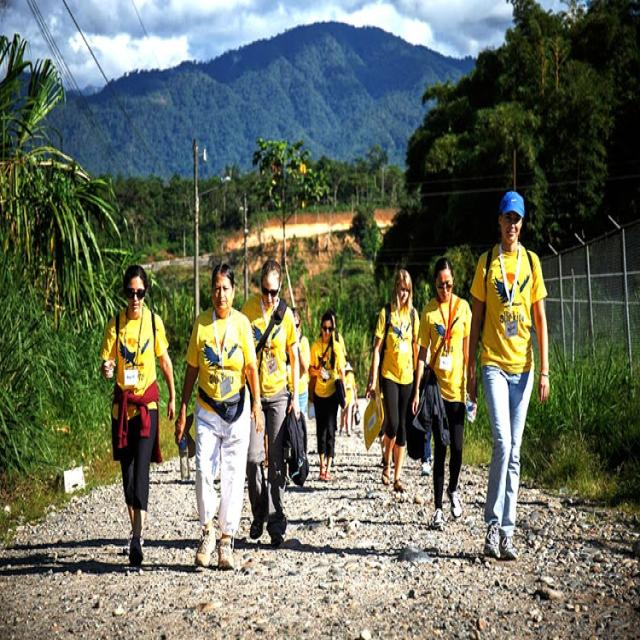body: (464, 189, 551, 562), (173, 261, 264, 571), (98, 262, 177, 566), (232, 257, 308, 549), (403, 254, 478, 528), (363, 269, 425, 494), (306, 311, 346, 483), (316, 306, 356, 468), (364, 301, 394, 467), (285, 306, 311, 417), (337, 359, 360, 436)
